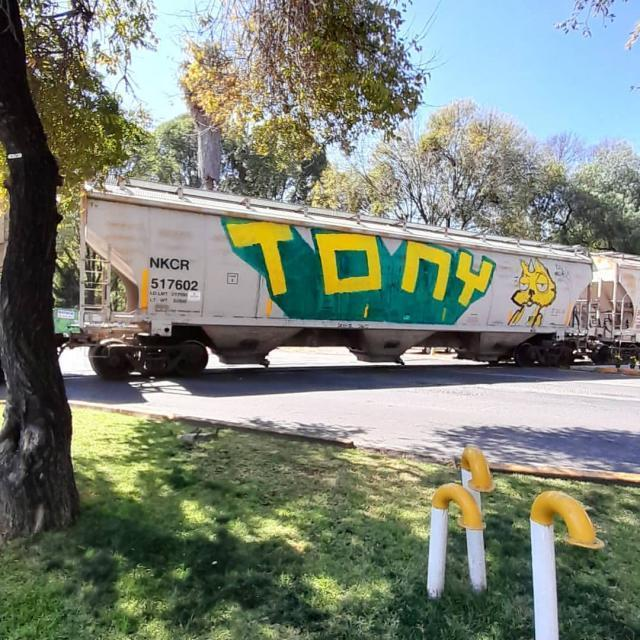-: (216, 210, 497, 328), (506, 248, 556, 329), (142, 248, 205, 312)
